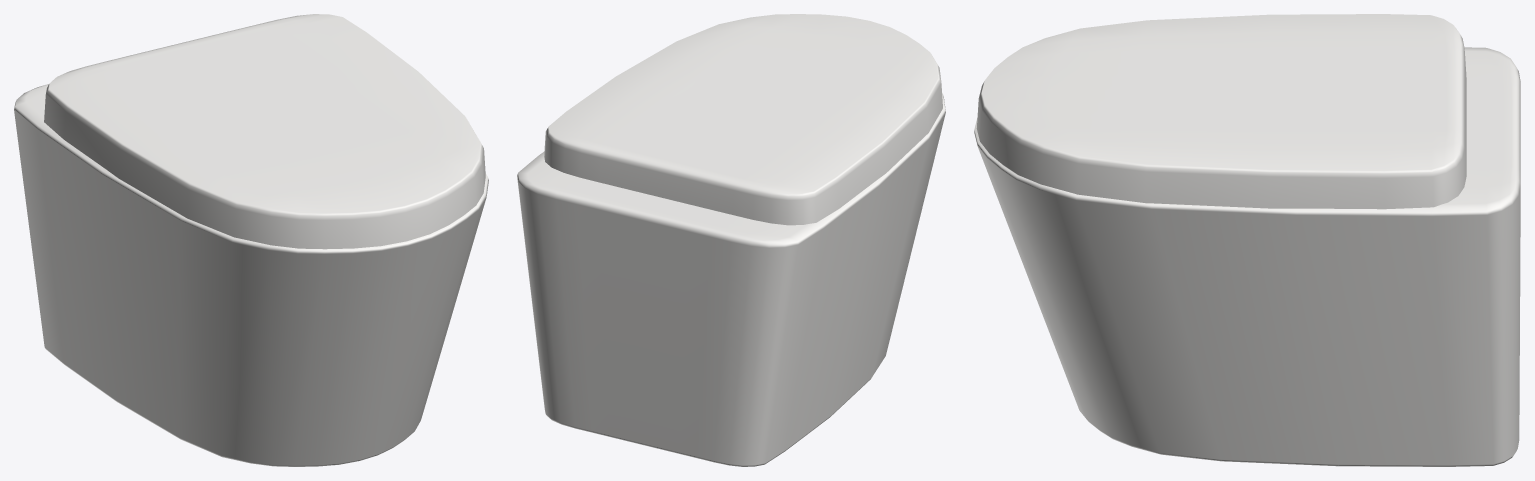
File: Toilet_1.glb
3 views of the same model, side by side, from view 1: azimuth 30°, elevation 25°; view 2: azimuth 150°, elevation 25°; view 3: azimuth 270°, elevation 25° (orthographic). The views are drawn at different scales.
Parts seen in each view (by area): view 1: Toilet_1; view 2: Toilet_1; view 3: Toilet_1.
Boxes of the visible parts, box(x1,y1,x2,y2) form: Toilet_1: box(14, 14, 488, 466); Toilet_1: box(517, 14, 945, 466); Toilet_1: box(974, 14, 1520, 466).
Size of the model in its own units: 0.638 by 0.5595 by 0.8862.
1 material, 1 textured.
